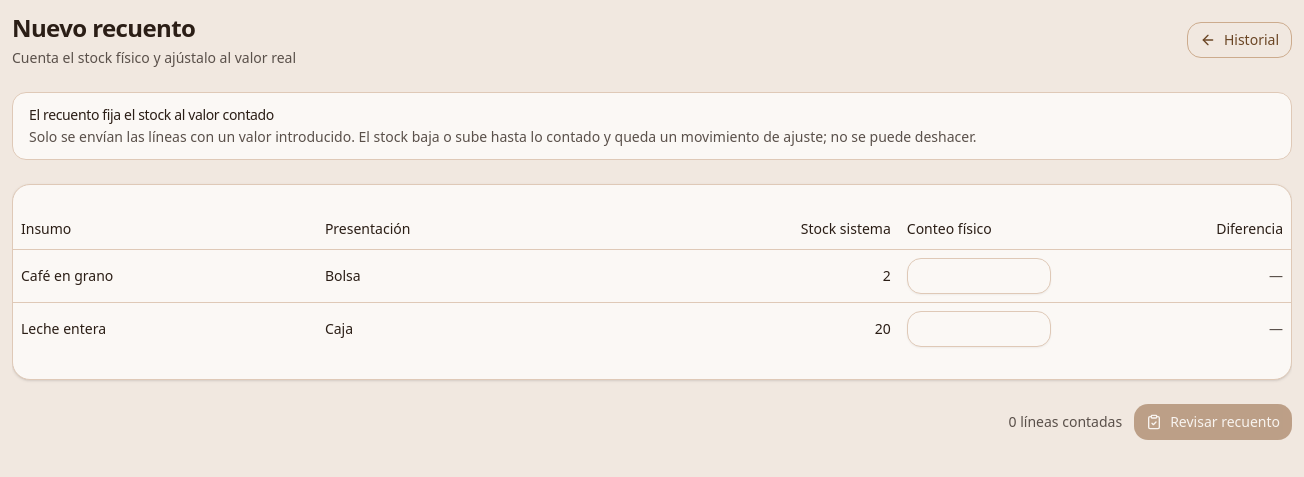
Test: Nuevo recuento › no permite revisar si hay un conteo negativo
In the field named "Conteo de Café en grano": (979, 276) top-left (907, 258), bottom-right (1051, 294), type "-1"
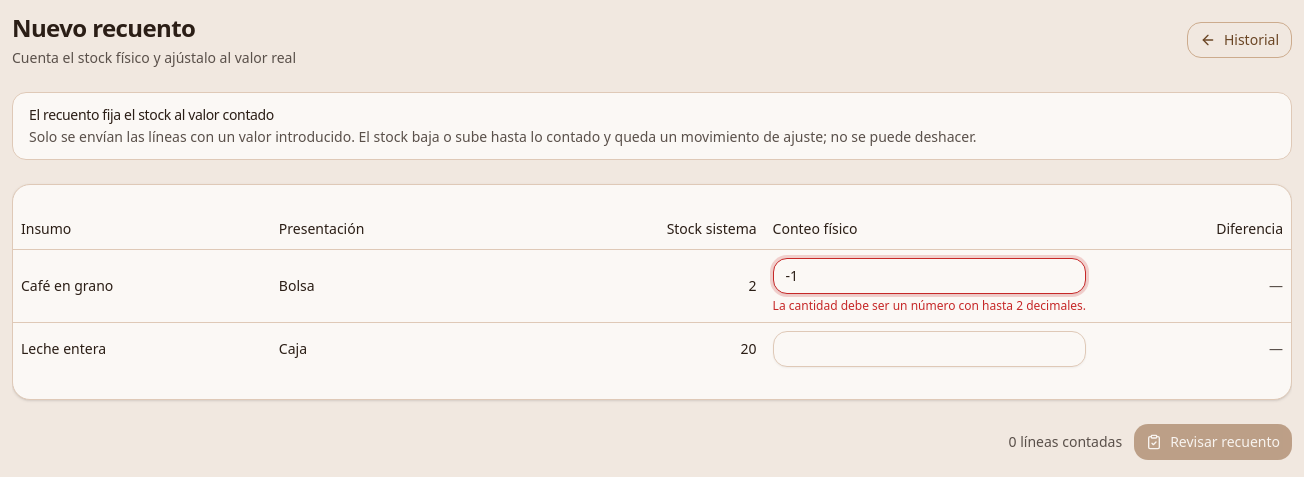
Expected: the button "Revisar recuento" is disabled, top-left (1134, 424), bottom-right (1292, 460)
Expected: the text "La cantidad debe ser un número con hasta 2 decimales." is shown, top-left (773, 298), bottom-right (1086, 314)
